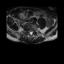CCS_normal: (30, 30, 31, 35)
LFS_stenosis: (33, 29, 34, 33)
LLS_normal: (31, 30, 33, 35)
RFS_stenosis: (27, 29, 29, 33)
RLS_normal: (29, 30, 30, 34)
